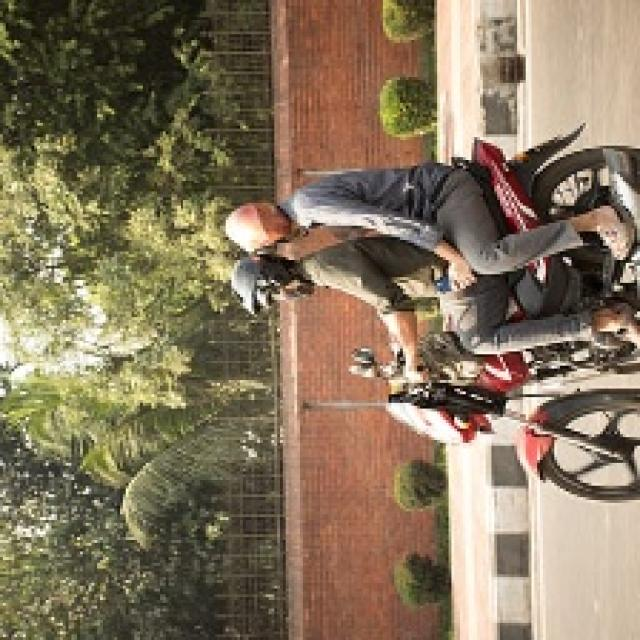bike: (400, 140, 638, 505)
